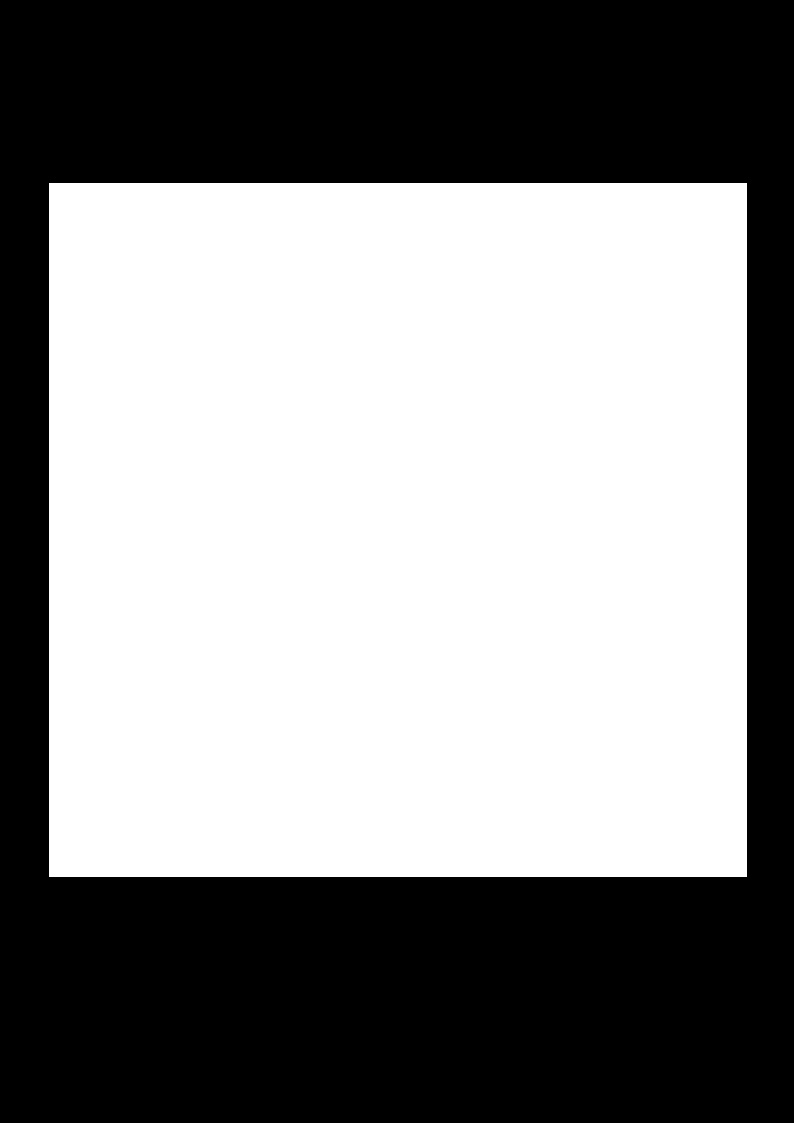table: (49, 183, 746, 876)
